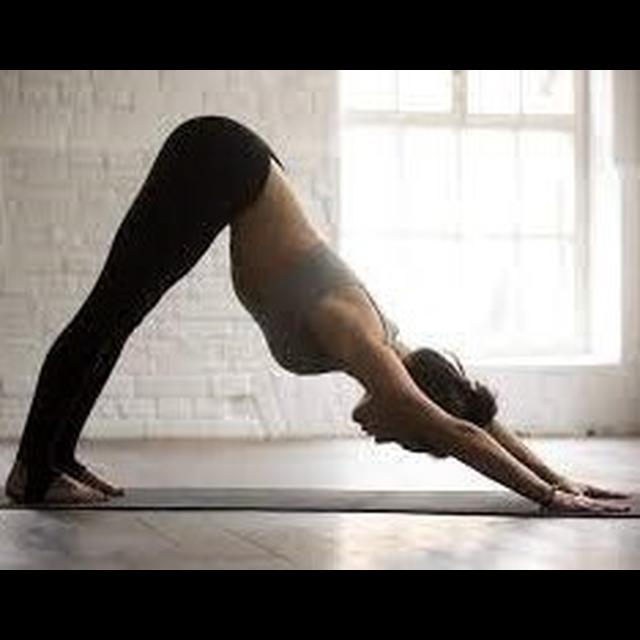Downward-Facing_Dog: (6, 109, 633, 533)
